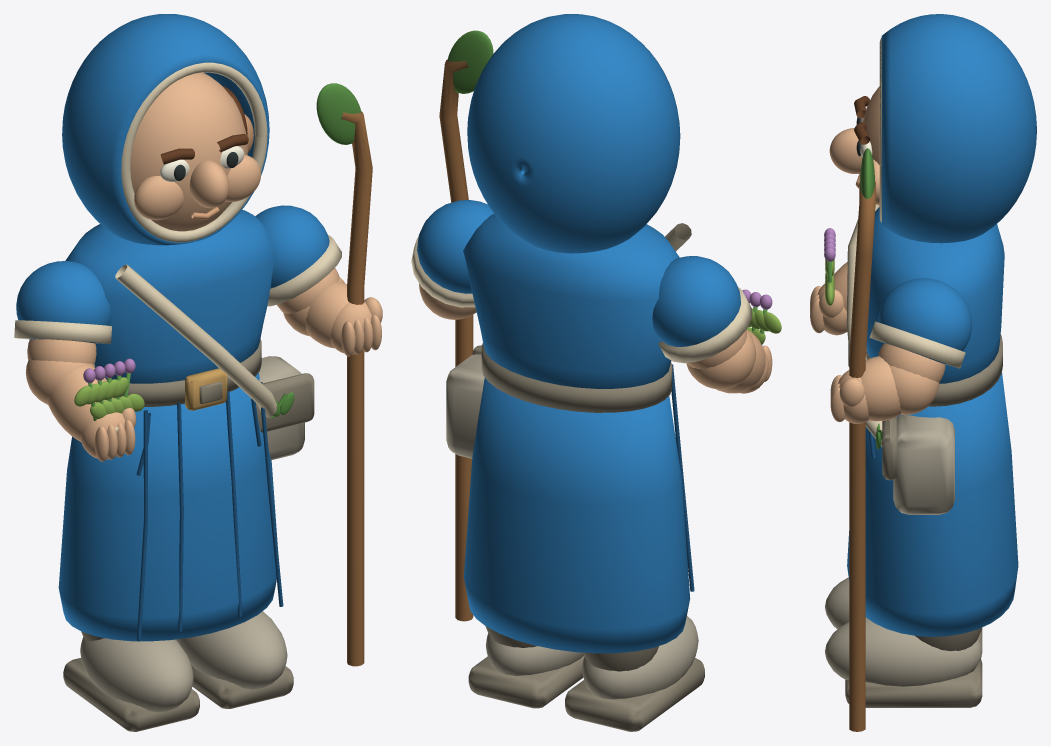
Rendered from heler_junior.glb.
3 views of the same model, side by side, from view 1: azimuth 30°, elevation 25°; view 2: azimuth 150°, elevation 25°; view 3: azimuth 270°, elevation 25° (orthographic). The views are drawn at different scales.
Parts seen in each view (by area): view 1: TEAM_Long_felt_robe, Tunic_torso.003, TEAM_Soft_hood, Head.003, Wooden_walking_staff, Boot_toe.006, Boot_toe.007, Herbs_Felt_sleeve, Hood_cream_lining, Satchel_woven_strap, Walking_staff_Felt_sleeve, Boot_sole.006 (+22 smaller); view 2: TEAM_Long_felt_robe, TEAM_Soft_hood, Tunic_torso.003, Herbs_Felt_sleeve, Wooden_walking_staff, Belt.003, Walking_staff_Felt_sleeve, Boot_sole.006, Boot_toe.006, Boot_sole.007, Healer_felt_satchel, Boot_toe.007 (+9 smaller); view 3: TEAM_Soft_hood, TEAM_Long_felt_robe, Tunic_torso.003, Wooden_walking_staff, Boot_toe.007, Healer_felt_satchel, Walking_staff_Felt_sleeve, Boot_sole.007, Walking_staff_Forearm, Walking_staff_Cream_cuff, Belt.003, Walking_staff_Elbow (+14 smaller).
Part boxes in pixels (<box>): TEAM_Long_felt_robe: <box>58,372,277,641</box>; Tunic_torso.003: <box>65,209,276,383</box>; TEAM_Soft_hood: <box>62,14,269,245</box>; Head.003: <box>130,72,247,231</box>; Wooden_walking_staff: <box>341,111,372,666</box>; Boot_toe.006: <box>80,637,193,712</box>; Boot_toe.007: <box>176,611,287,689</box>; Herbs_Felt_sleeve: <box>16,261,110,343</box>; Hood_cream_lining: <box>121,62,267,242</box>; Satchel_woven_strap: <box>115,264,276,417</box>; Walking_staff_Felt_sleeve: <box>255,205,329,288</box>; Boot_sole.006: <box>63,658,199,731</box>; TEAM_Long_felt_robe: <box>463,377,690,653</box>; TEAM_Soft_hood: <box>467,14,680,253</box>; Tunic_torso.003: <box>463,213,679,388</box>; Herbs_Felt_sleeve: <box>652,256,740,346</box>; Wooden_walking_staff: <box>439,59,473,621</box>; Belt.003: <box>481,343,672,412</box>; Walking_staff_Felt_sleeve: <box>417,200,493,293</box>; Boot_sole.006: <box>565,658,704,731</box>; Boot_toe.006: <box>582,616,698,699</box>; Boot_sole.007: <box>468,656,584,708</box>; Healer_felt_satchel: <box>446,354,484,458</box>; Boot_toe.007: <box>485,633,583,675</box>; TEAM_Soft_hood: <box>881,14,1036,243</box>; TEAM_Long_felt_robe: <box>847,373,1018,636</box>; Tunic_torso.003: <box>866,207,1004,383</box>; Wooden_walking_staff: <box>849,181,875,731</box>; Boot_toe.007: <box>825,617,982,686</box>; Healer_felt_satchel: <box>893,415,954,514</box>; Walking_staff_Felt_sleeve: <box>878,278,972,364</box>; Boot_sole.007: <box>845,659,982,707</box>; Walking_staff_Forearm: <box>860,356,900,421</box>; Walking_staff_Cream_cuff: <box>869,321,965,368</box>; Belt.003: <box>866,334,1002,406</box>; Walking_staff_Elbow: <box>889,365,939,415</box>.
Bounding box in the file's own units: 1.08 × 2.09 × 0.6619.
